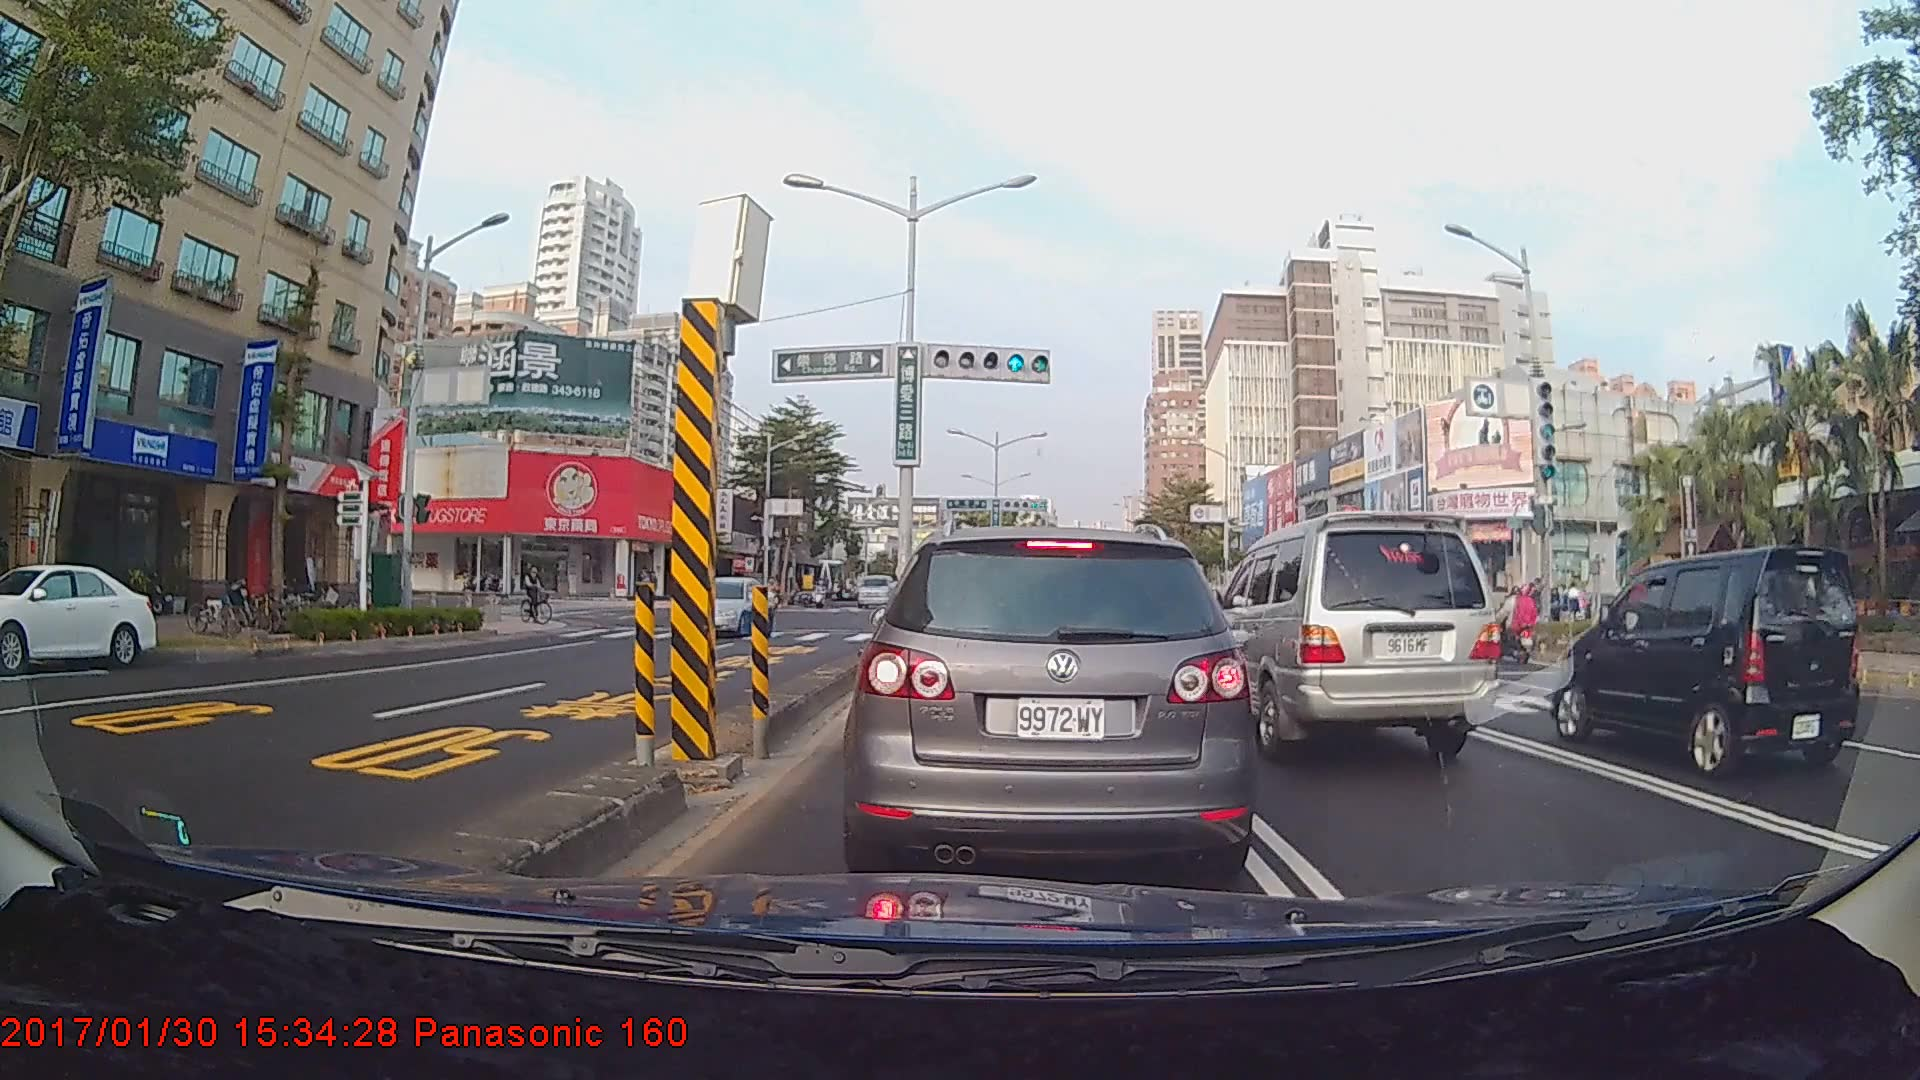rider: (1485, 582, 1548, 668), (518, 559, 561, 629)
vehicle: (855, 522, 1243, 876), (1181, 510, 1501, 764), (1548, 541, 1861, 777), (0, 561, 157, 671), (670, 574, 774, 638), (854, 572, 897, 608)
